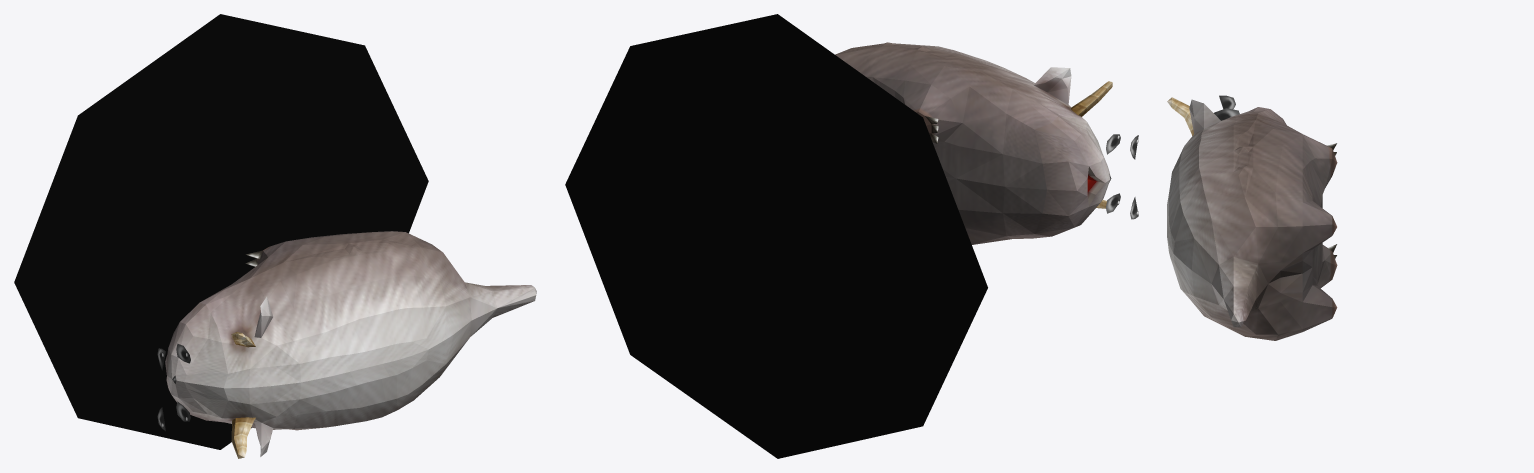
3 renders of one model, left to right at view 1: azimuth 30°, elevation 25°; view 2: azimuth 150°, elevation 25°; view 3: azimuth 270°, elevation 25°, orthographic. The views are drawn at different scales.
Visible parts, largest first — view 1: M_0008_0; view 2: M_0008_0; view 3: M_0008_0.
Part boxes in pixels (<box>): M_0008_0: <box>14,14,536,458</box>; M_0008_0: <box>565,14,1138,458</box>; M_0008_0: <box>1167,95,1337,340</box>.
Bounding box in the file's own units: 1.75 × 1.76 × 1.29.
2 materials, 2 textured.
